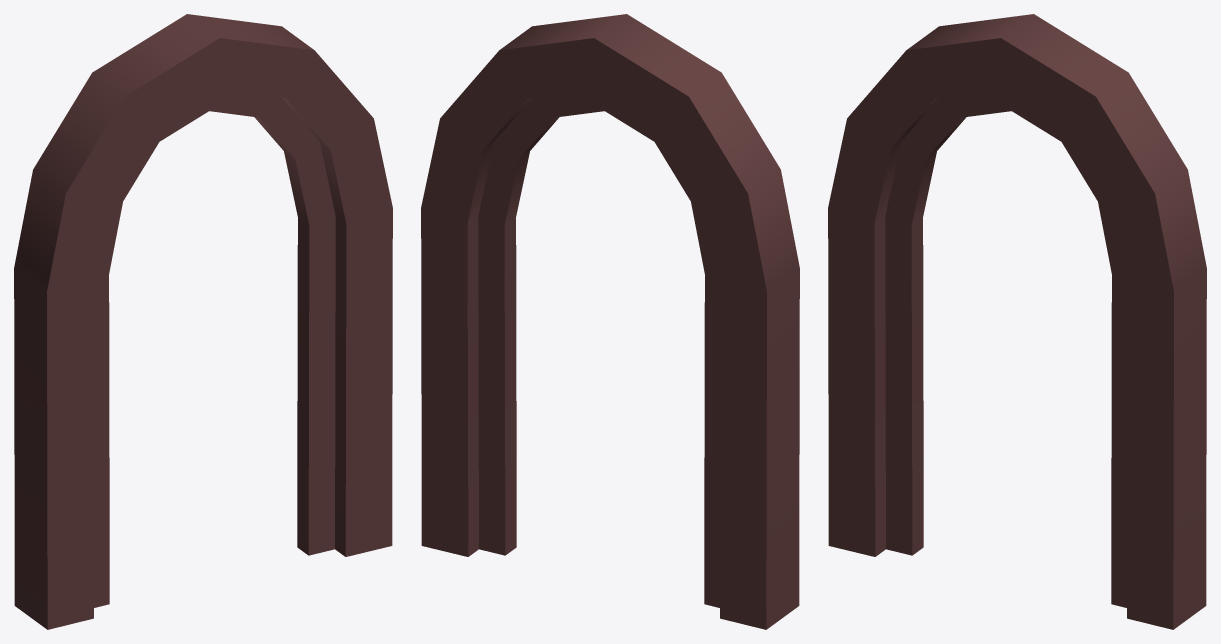
Rendered from MarcoPasillo.fbx.
3 renders of one model, left to right at view 1: azimuth 30°, elevation 25°; view 2: azimuth 150°, elevation 25°; view 3: azimuth 330°, elevation 25°, orthographic.
Visible parts, largest first — view 1: marcopasillo; view 2: marcopasillo; view 3: marcopasillo.
Part boxes in pixels (x1=…): marcopasillo: x1=14, y1=14, x2=392, y2=629; marcopasillo: x1=421, y1=14, x2=799, y2=629; marcopasillo: x1=828, y1=14, x2=1206, y2=629.
Bounding box in the file's own units: 223 × 339 × 36.69.
